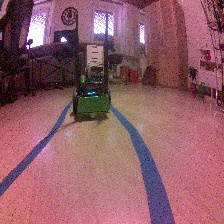rob: (71, 65, 111, 119)
